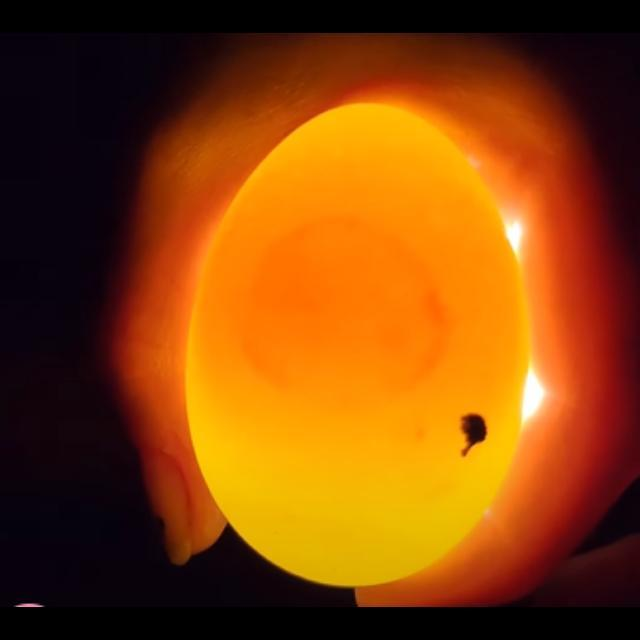Infertile: (182, 99, 532, 596)
